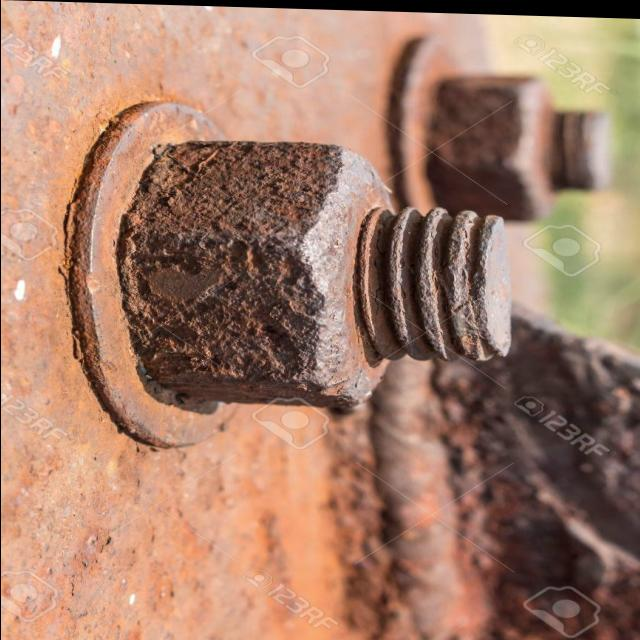Rusty bolt: (131, 132, 443, 411), (425, 68, 585, 221)
